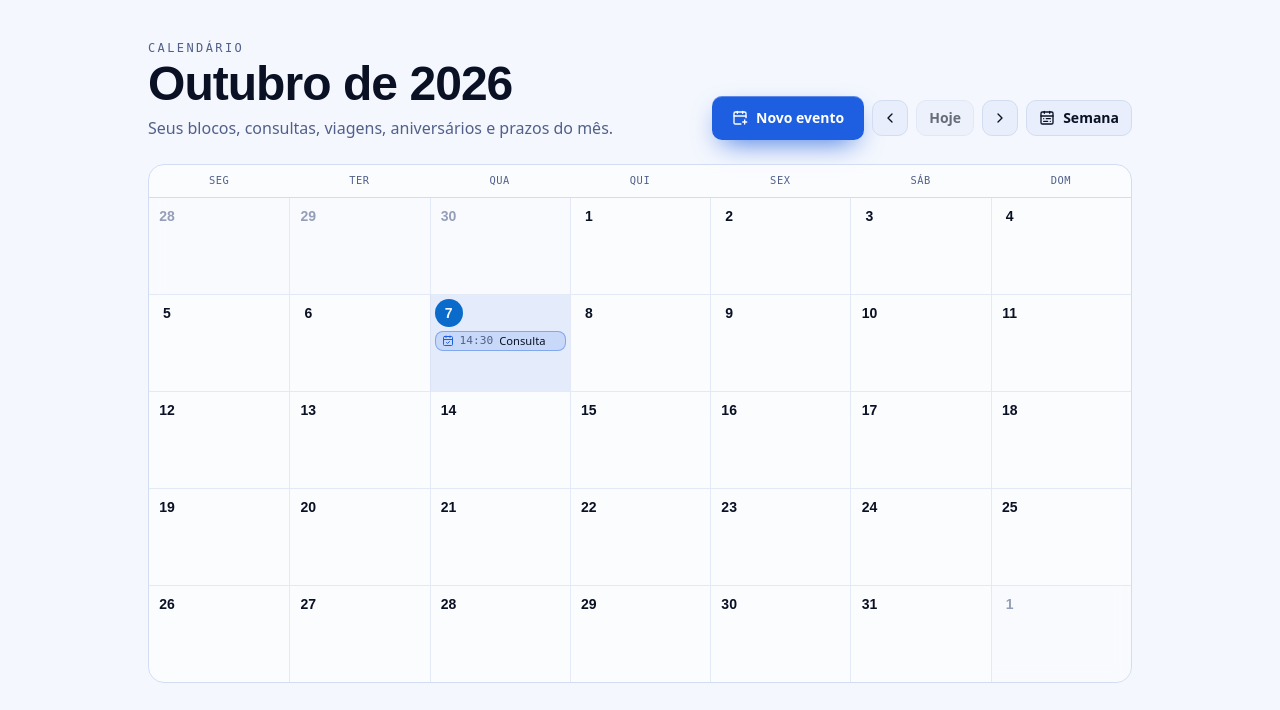
Test case: CalendarPage (visão mensal, RF34) › clicar no evento abre os detalhes
The image size is (1280, 710).
Click the button with aria-label "Evento: Consulta". click: (500, 341)
box: [435,331,566,351]
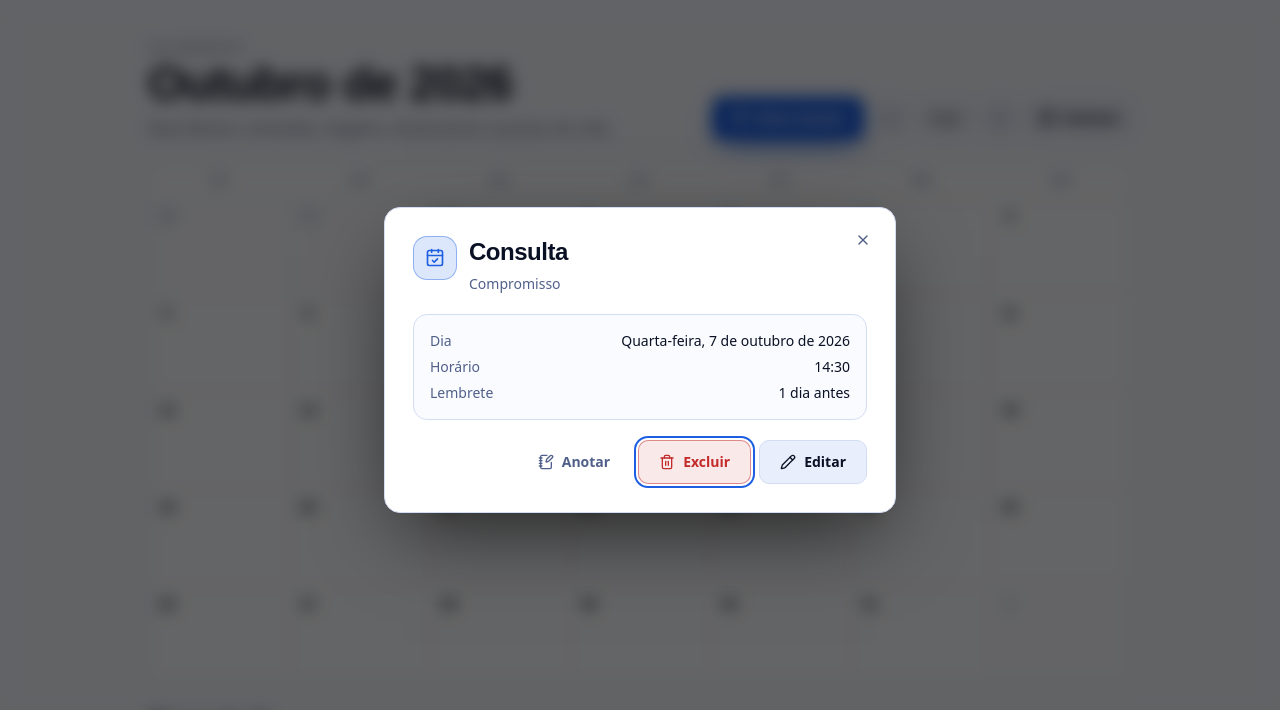
Now the heading "Consulta" is shown, box [469,236,568,268]
